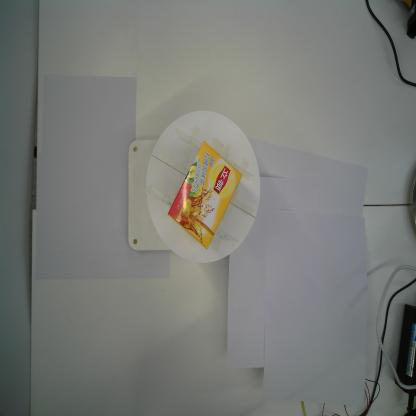Instant Drink: (166, 140, 244, 250)
